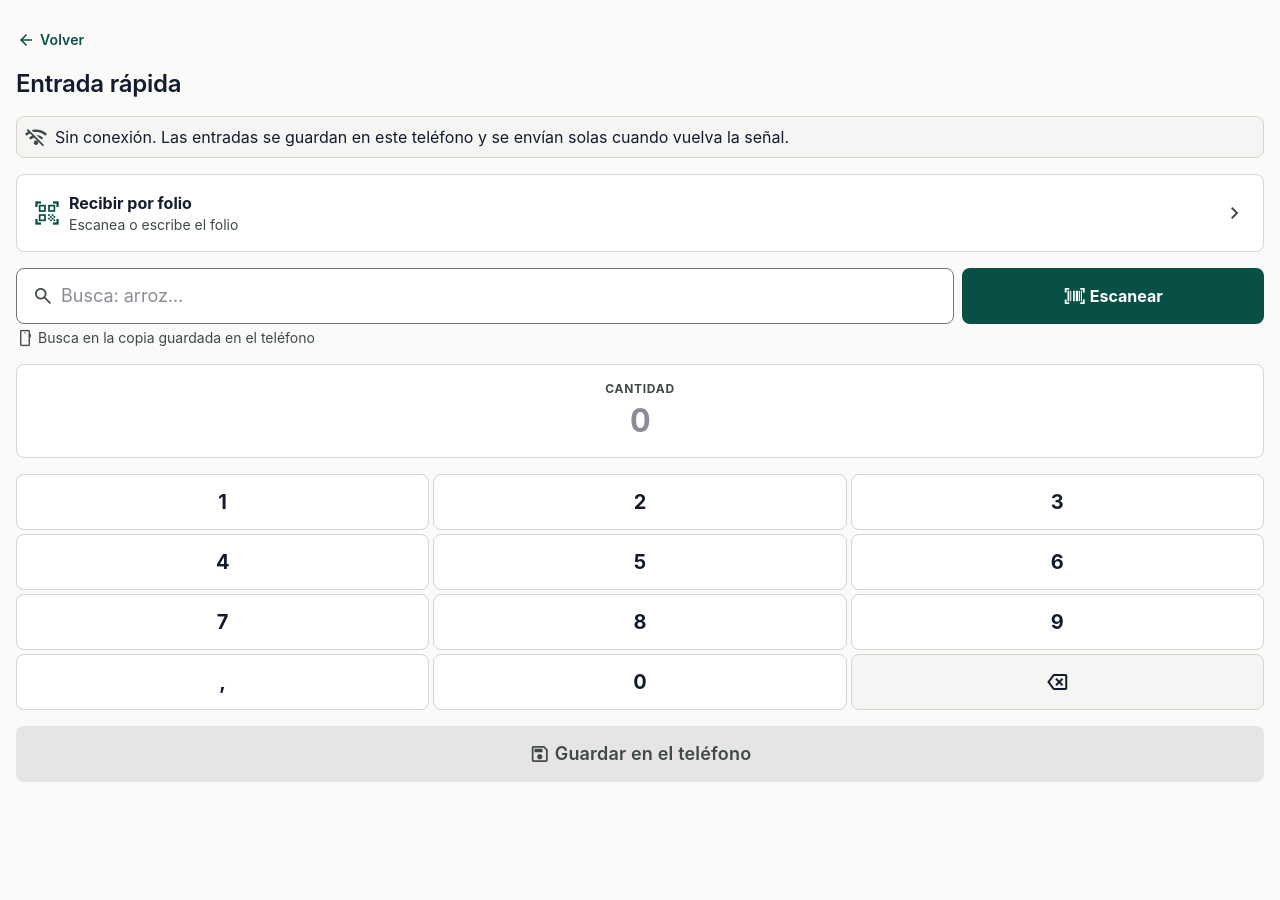
Scenario: C4 sin conexión › busca en la copia del teléfono sin tildes ni mayúsculas
The image size is (1280, 900).
Type "PANAL" into the search field named "Categoría".
click(485, 296); type("PANAL")  # box [16, 268, 954, 324]
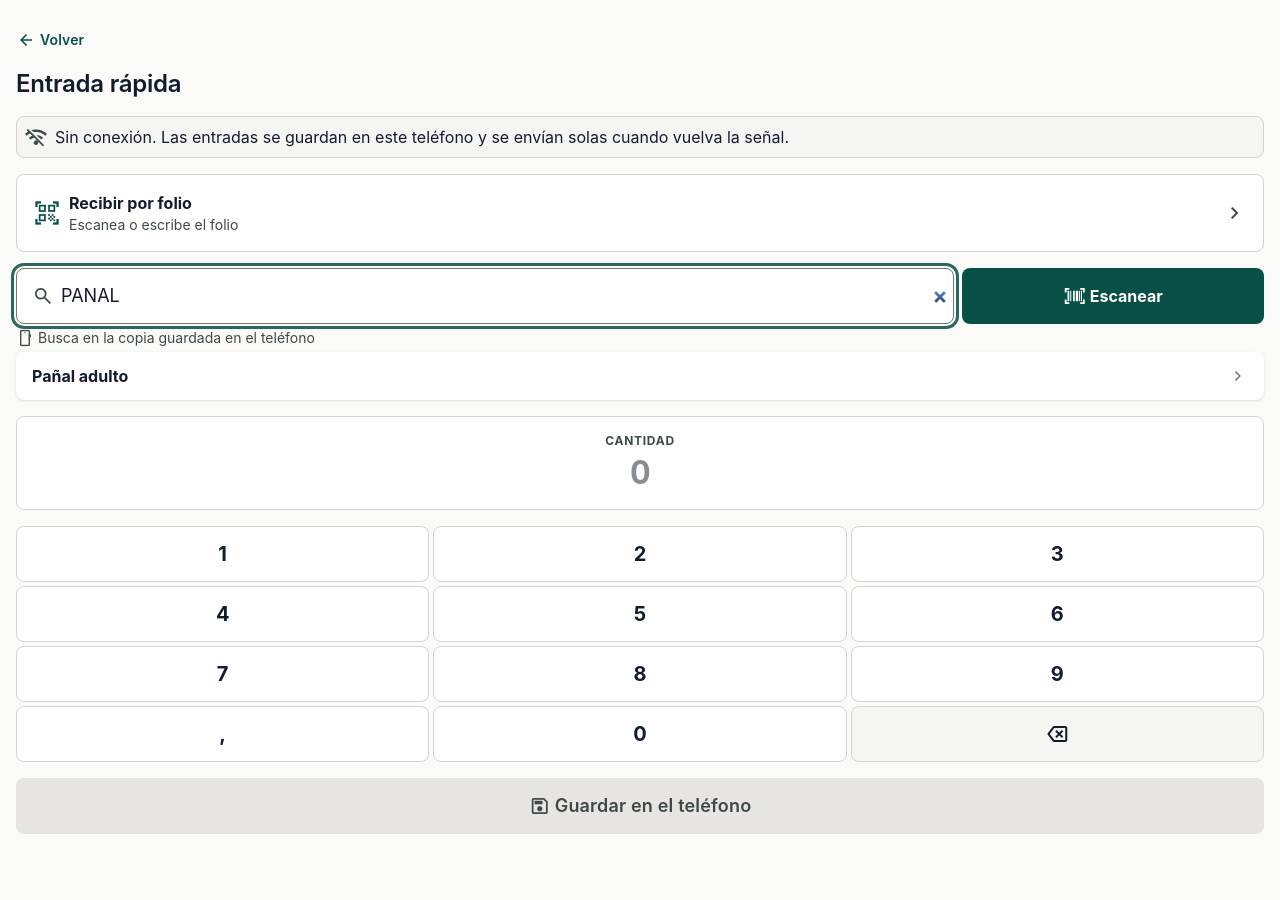
expect the text "Busca en la copia guardada en el teléfono" is shown: met, box [16, 327, 315, 349]
expect the button "Pañal adulto" is shown: met, box [16, 352, 1264, 400]
